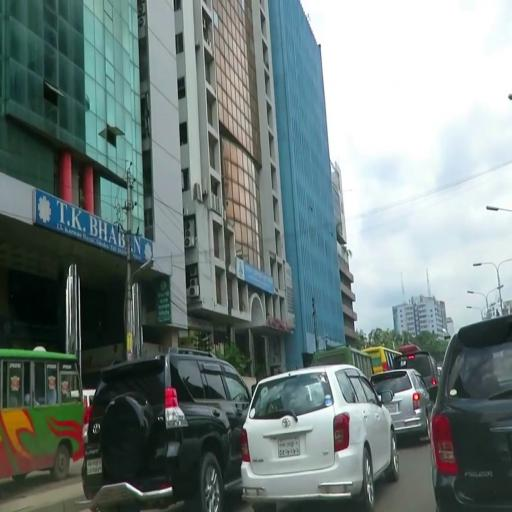bus: (1, 341, 85, 493), (313, 346, 375, 378), (363, 346, 401, 374)
car: (241, 362, 401, 510), (429, 311, 511, 506), (369, 366, 435, 446)
suv: (79, 345, 251, 512)
van: (393, 349, 441, 405)
